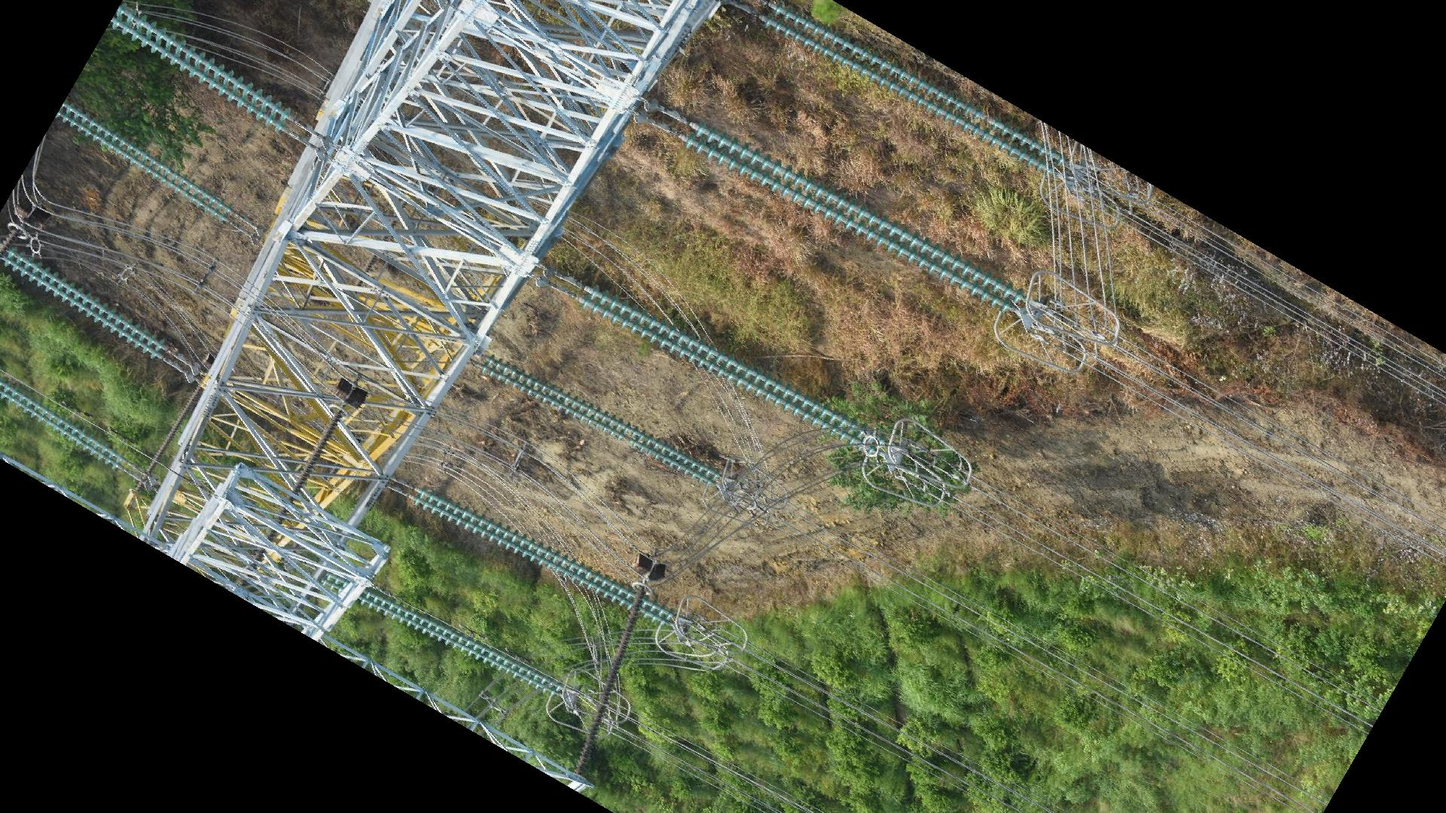insulator: (682, 118, 1030, 316), (763, 1, 1072, 178), (577, 282, 889, 457), (409, 486, 677, 630), (479, 352, 723, 489), (110, 1, 294, 135), (52, 97, 234, 224), (358, 588, 562, 696), (1, 248, 169, 361), (572, 583, 648, 774), (1, 379, 127, 472), (267, 409, 345, 542), (142, 385, 202, 478), (1, 227, 21, 255)
insulator_stringdrop: (970, 104, 1008, 132), (615, 428, 641, 449)
